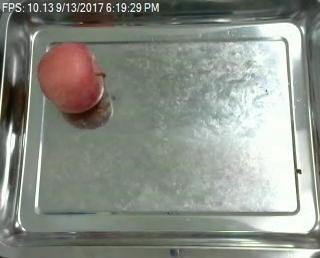apple: (38, 42, 105, 115)
